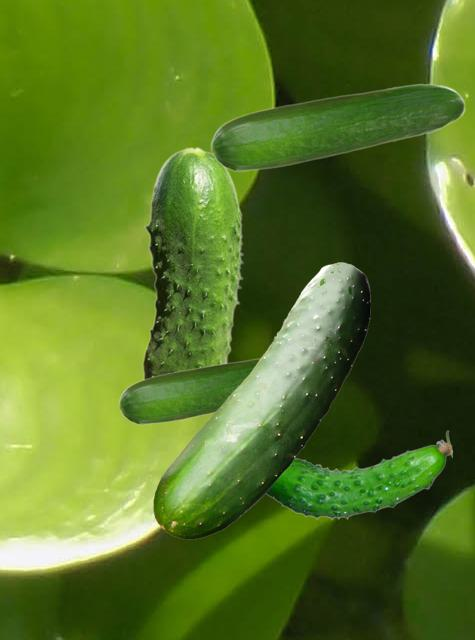cucumber: (153, 262, 369, 538), (142, 146, 243, 378), (210, 83, 464, 171), (266, 430, 451, 519), (118, 357, 259, 424)
